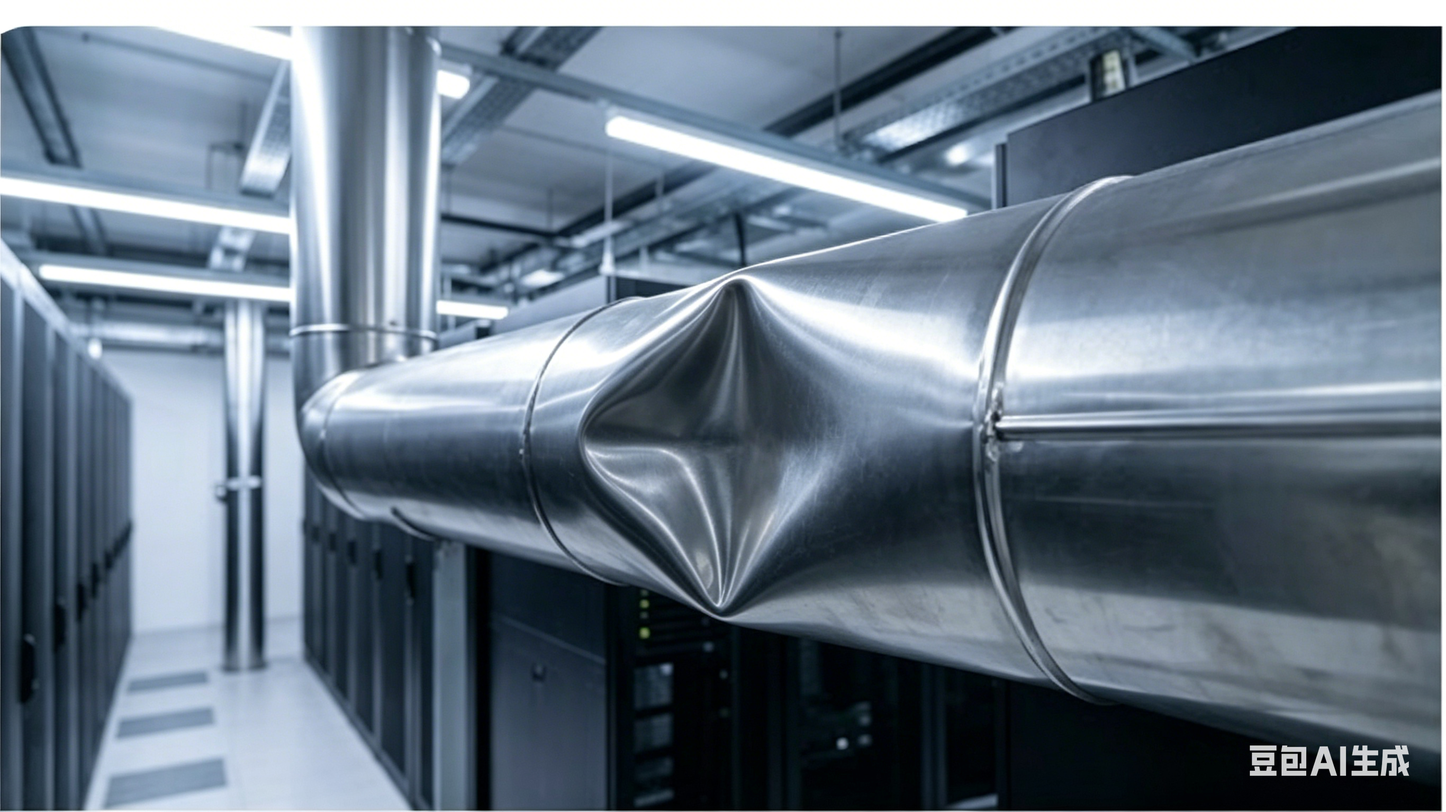Leakage: (580, 257, 874, 613)
